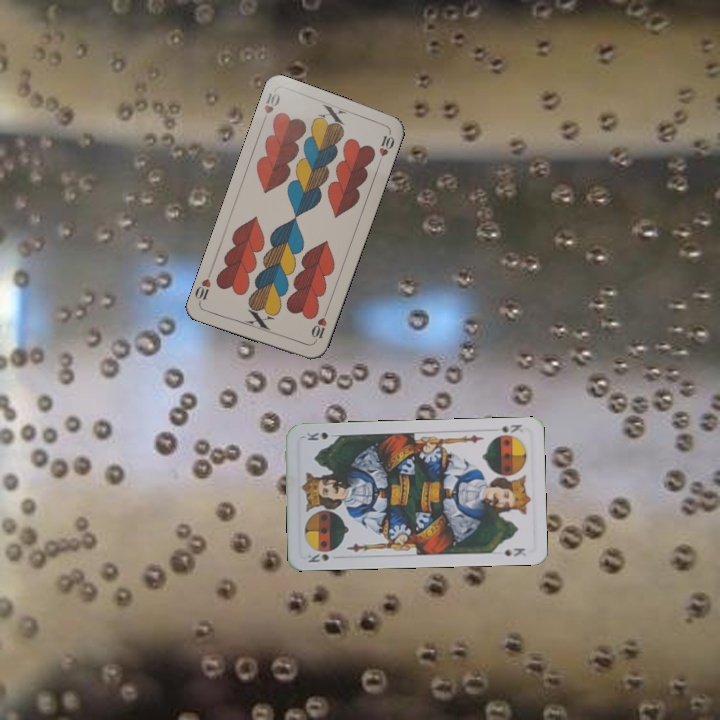H10: (258, 88, 283, 127), (307, 306, 330, 346)
SK: (487, 420, 525, 440), (303, 549, 332, 565)
